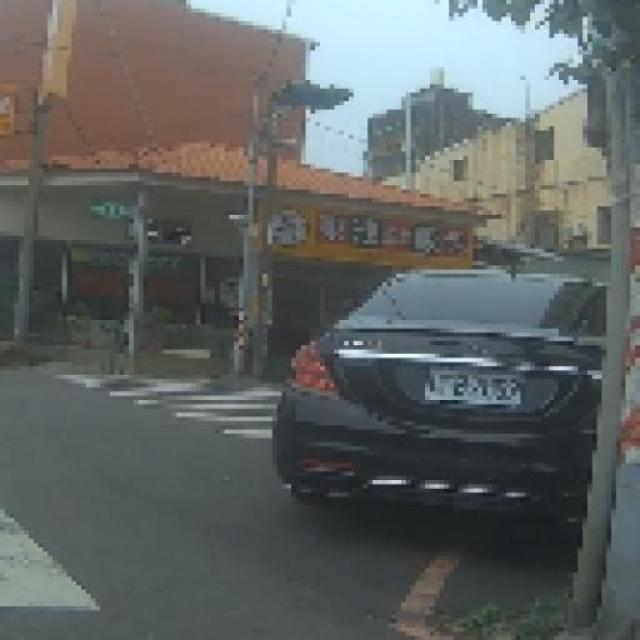illegalparking: (257, 206, 631, 590)
